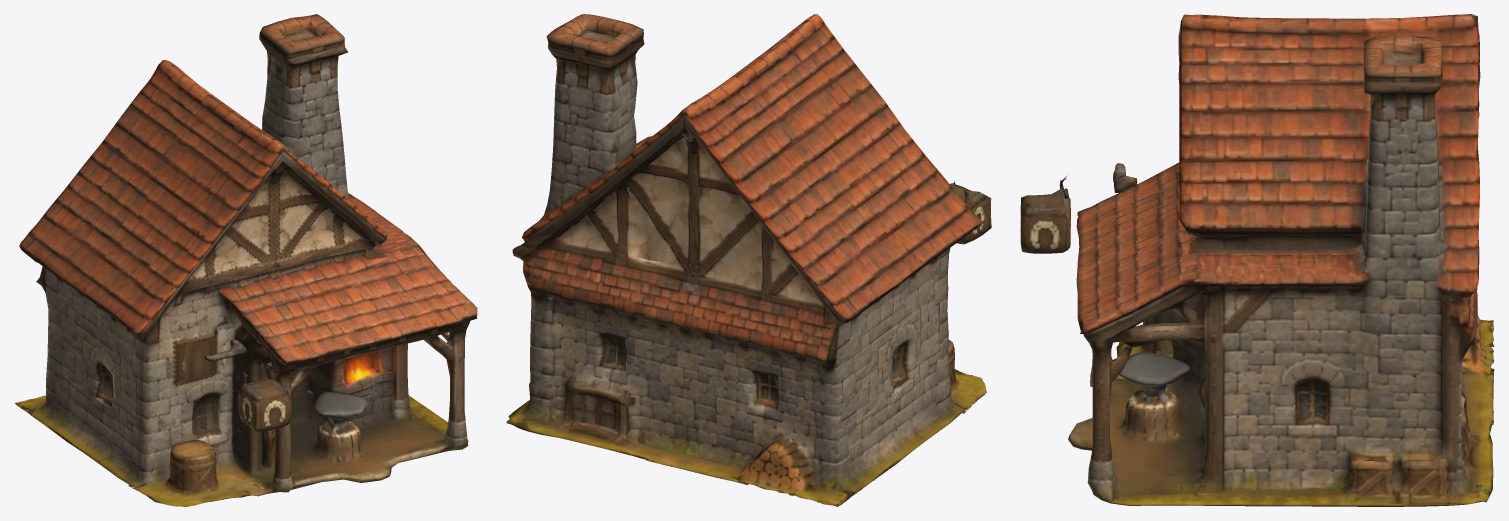
The picture shows the model from 3 angles, left to right: view 1: azimuth 30°, elevation 25°; view 2: azimuth 150°, elevation 25°; view 3: azimuth 270°, elevation 25°; orthographic projection. The views are drawn at different scales.
Visible parts, largest first — view 1: tripo_node_09567ea3-dfdd-4507-94fe-597770b944dd; view 2: tripo_node_09567ea3-dfdd-4507-94fe-597770b944dd; view 3: tripo_node_09567ea3-dfdd-4507-94fe-597770b944dd.
Boxes of the visible parts, bbox=[...] form: tripo_node_09567ea3-dfdd-4507-94fe-597770b944dd: bbox=[15, 14, 477, 506]; tripo_node_09567ea3-dfdd-4507-94fe-597770b944dd: bbox=[506, 14, 991, 506]; tripo_node_09567ea3-dfdd-4507-94fe-597770b944dd: bbox=[1020, 14, 1494, 506].
Bounding box in the file's own units: 0.9027 × 0.9467 × 0.96.
Materials: 1 (1 with a texture image).
